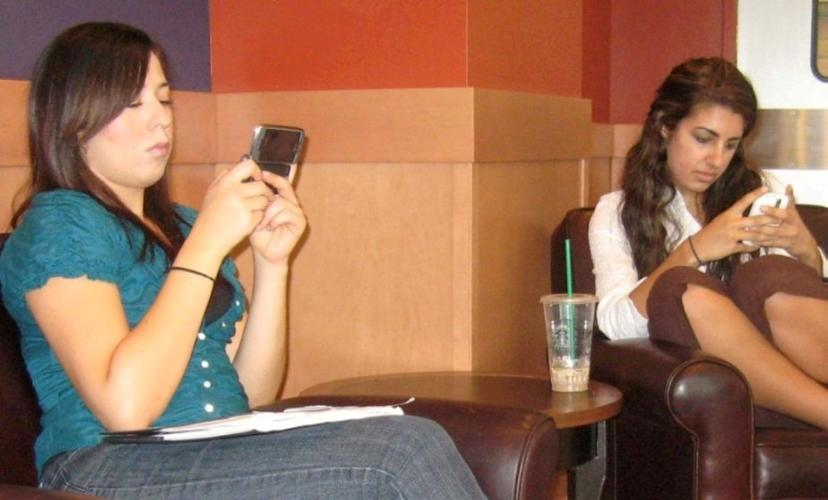person: (2, 22, 489, 498)
